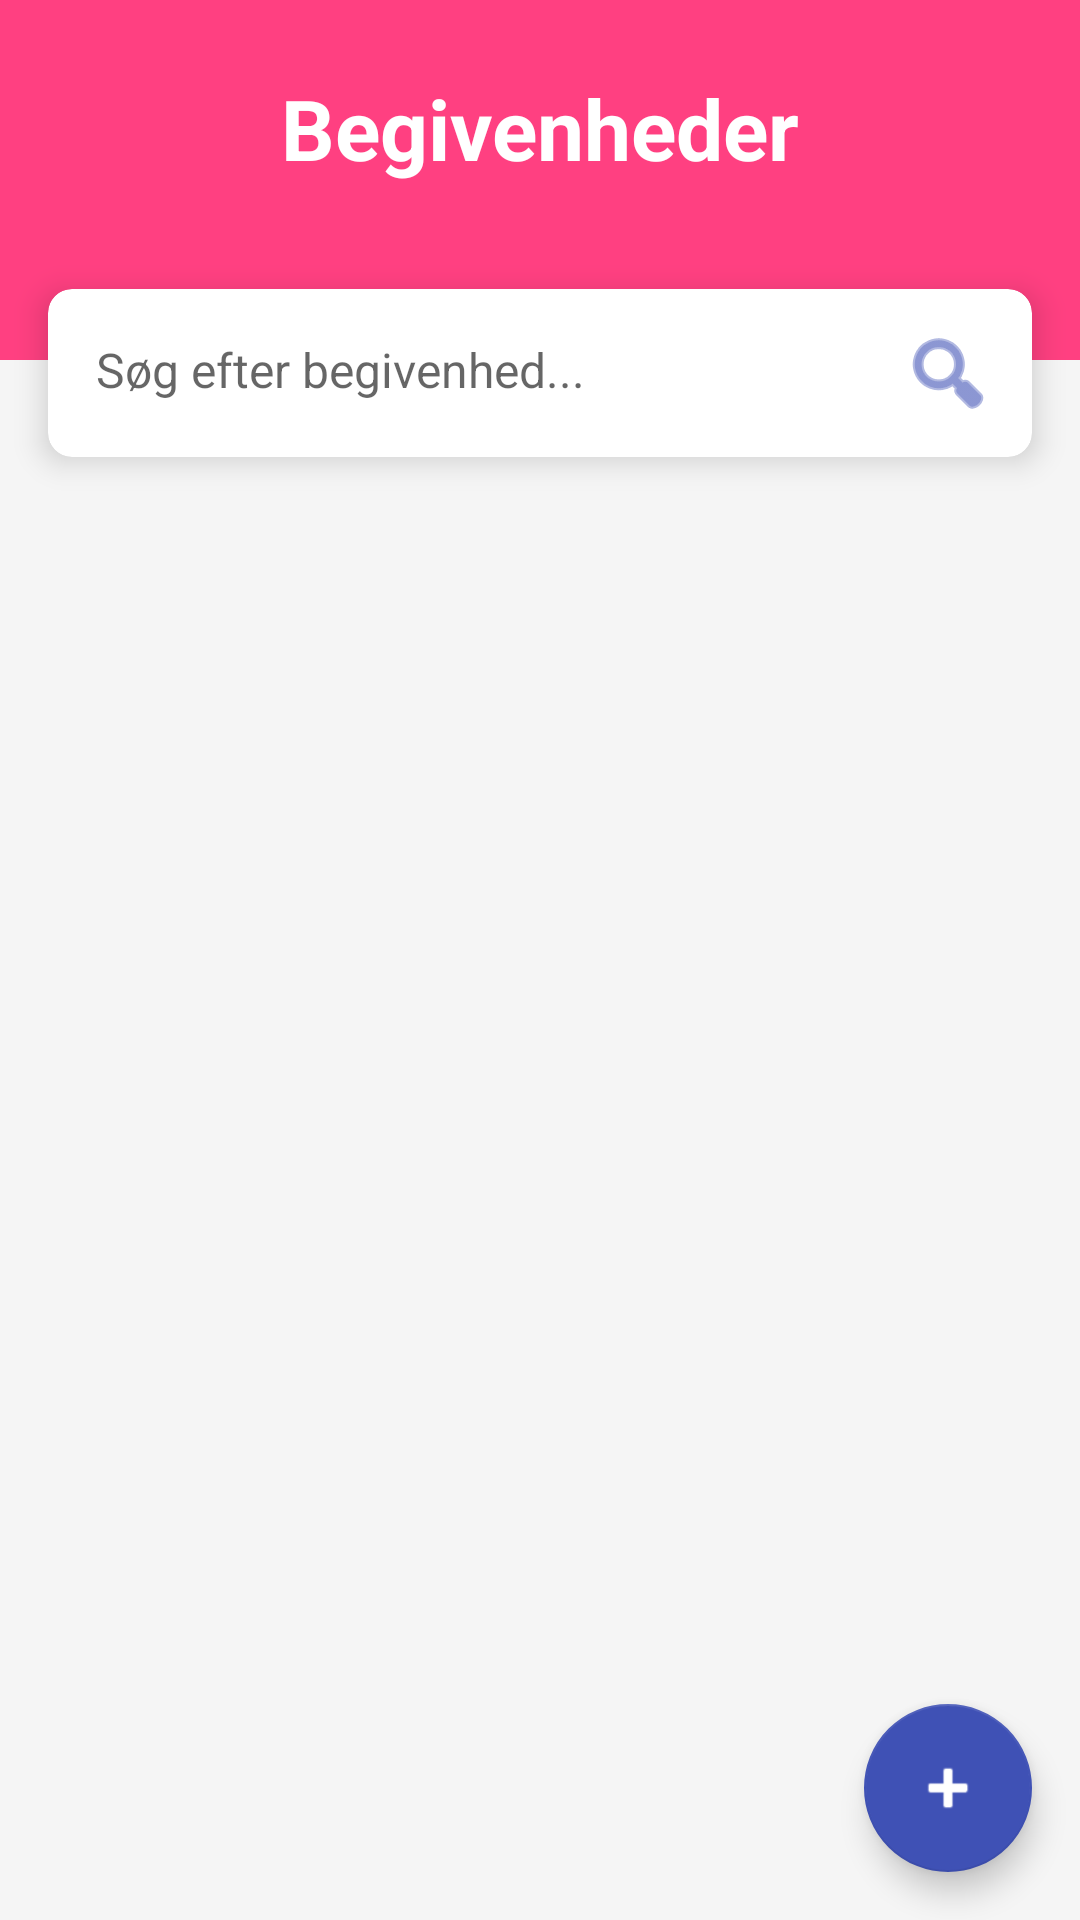

Icons on this 1080 x 1920 Android screen, each with the point to tap as (x,y):
search: (948,373)
Tilføj begivenhed: (948,1788)
